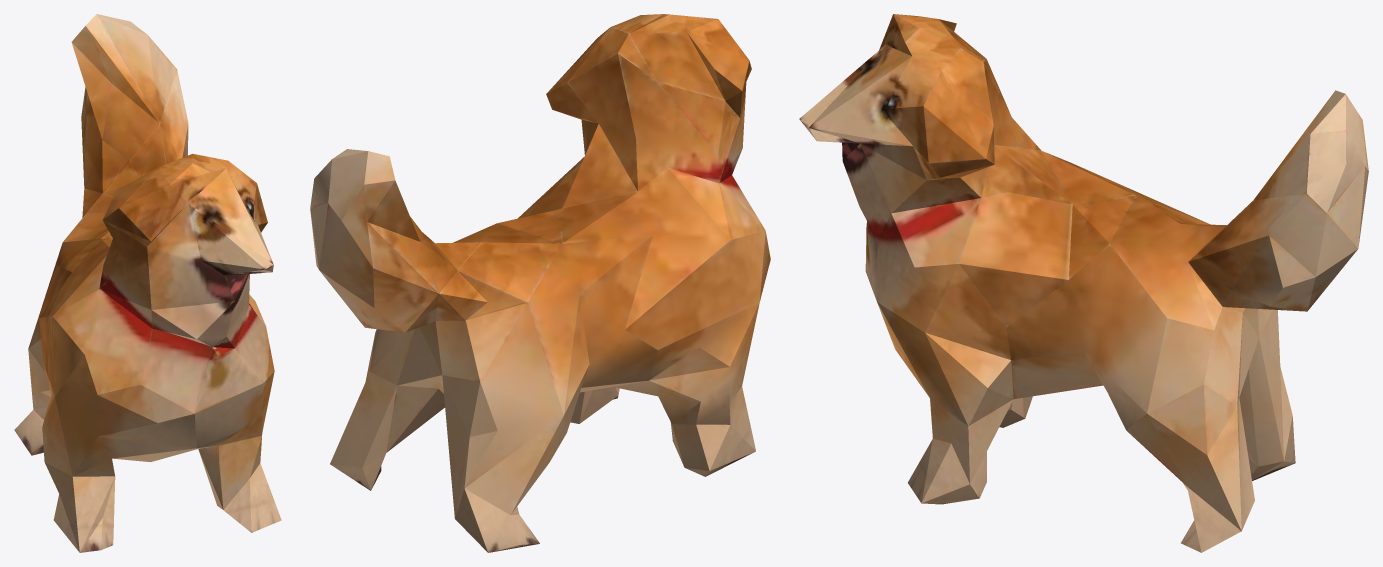
File: dog-lod.glb
The picture shows the model from 3 angles, left to right: view 1: azimuth 30°, elevation 25°; view 2: azimuth 150°, elevation 25°; view 3: azimuth 270°, elevation 25°; orthographic projection. The views are drawn at different scales.
Visible parts, largest first — view 1: output_unwrapped; view 2: output_unwrapped; view 3: output_unwrapped.
Part boxes in pixels (x1,y1,x2,y2): output_unwrapped: (14,14,281,552); output_unwrapped: (310,14,770,552); output_unwrapped: (799,14,1368,552).
Bounding box in the file's own units: 1.07 × 1.38 × 1.62.
Materials: 1 (1 with a texture image).
